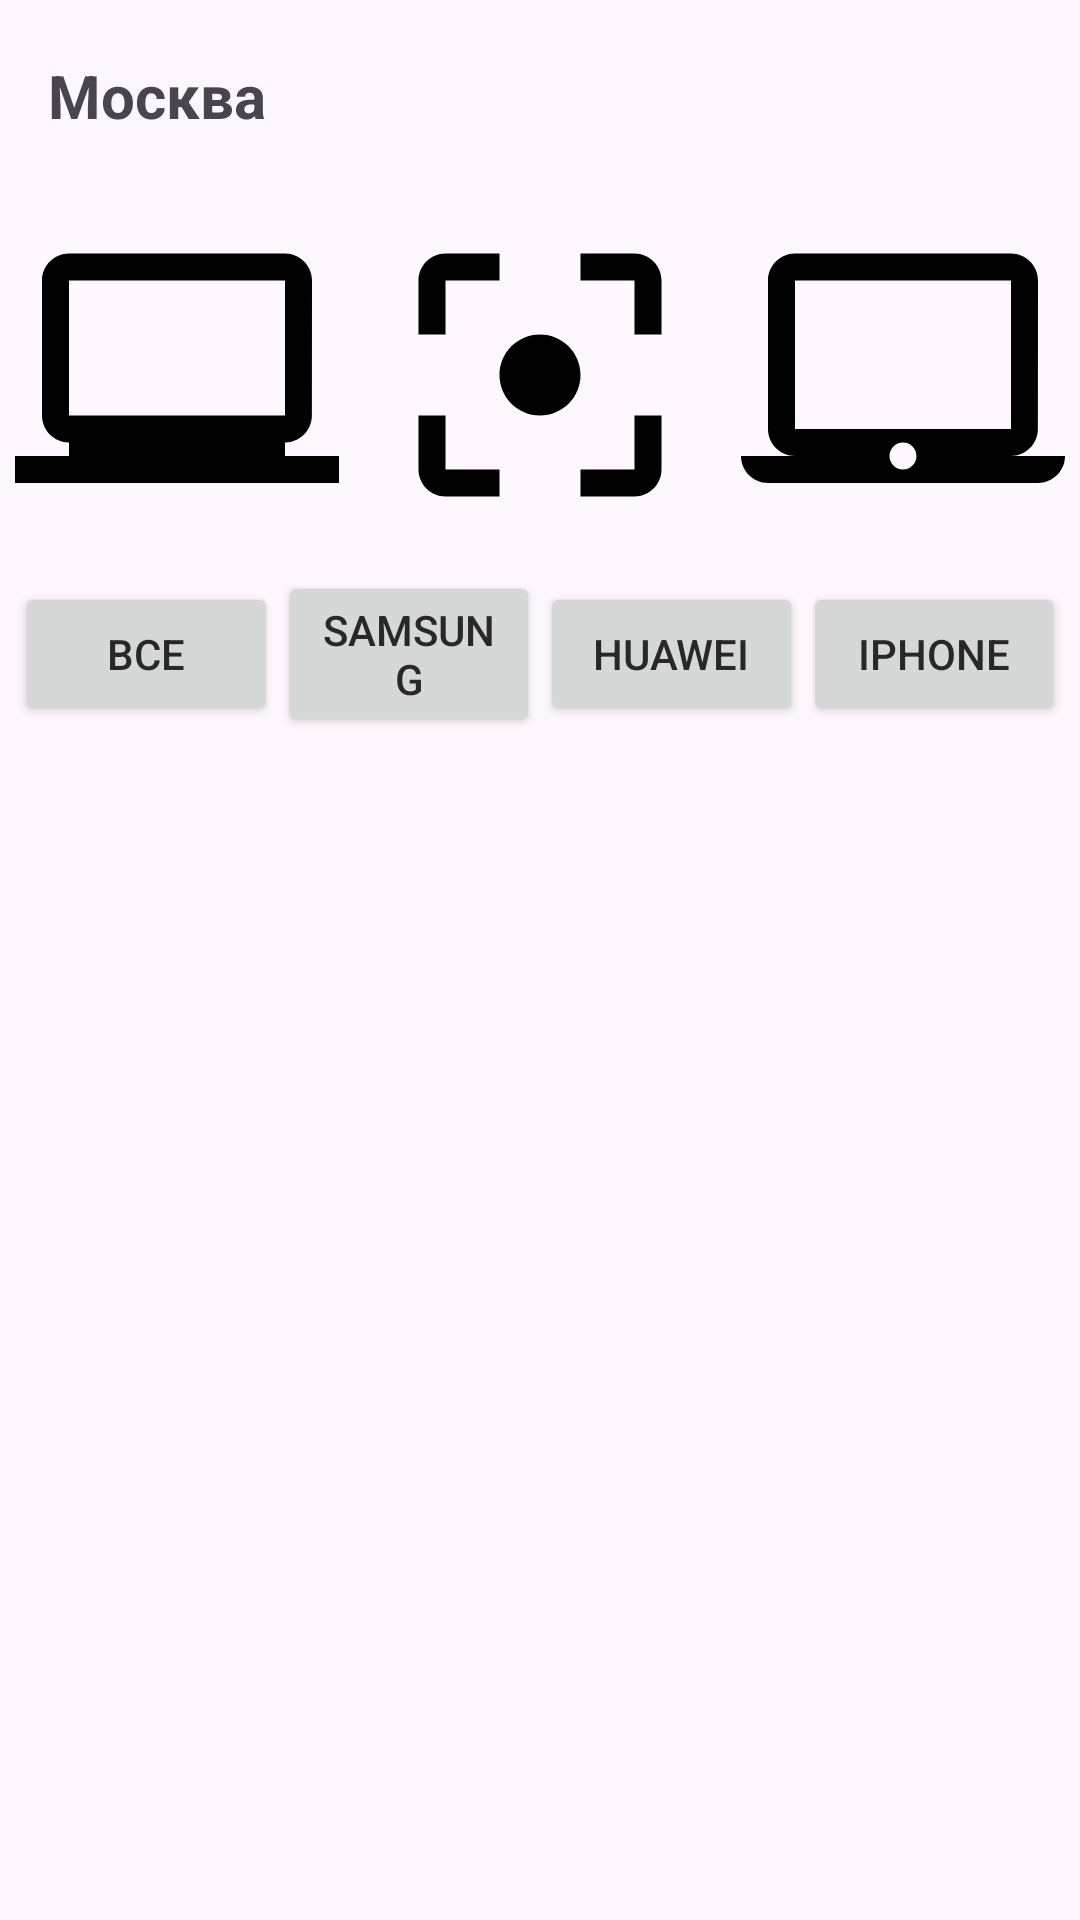

Icons on this 1080px×1920px Android screen, each with its box as (x1, y1, x2, y2):
filter center focus: (418, 253, 662, 497)
laptop mac: (741, 253, 1065, 483)
laptop windows: (15, 253, 339, 483)
